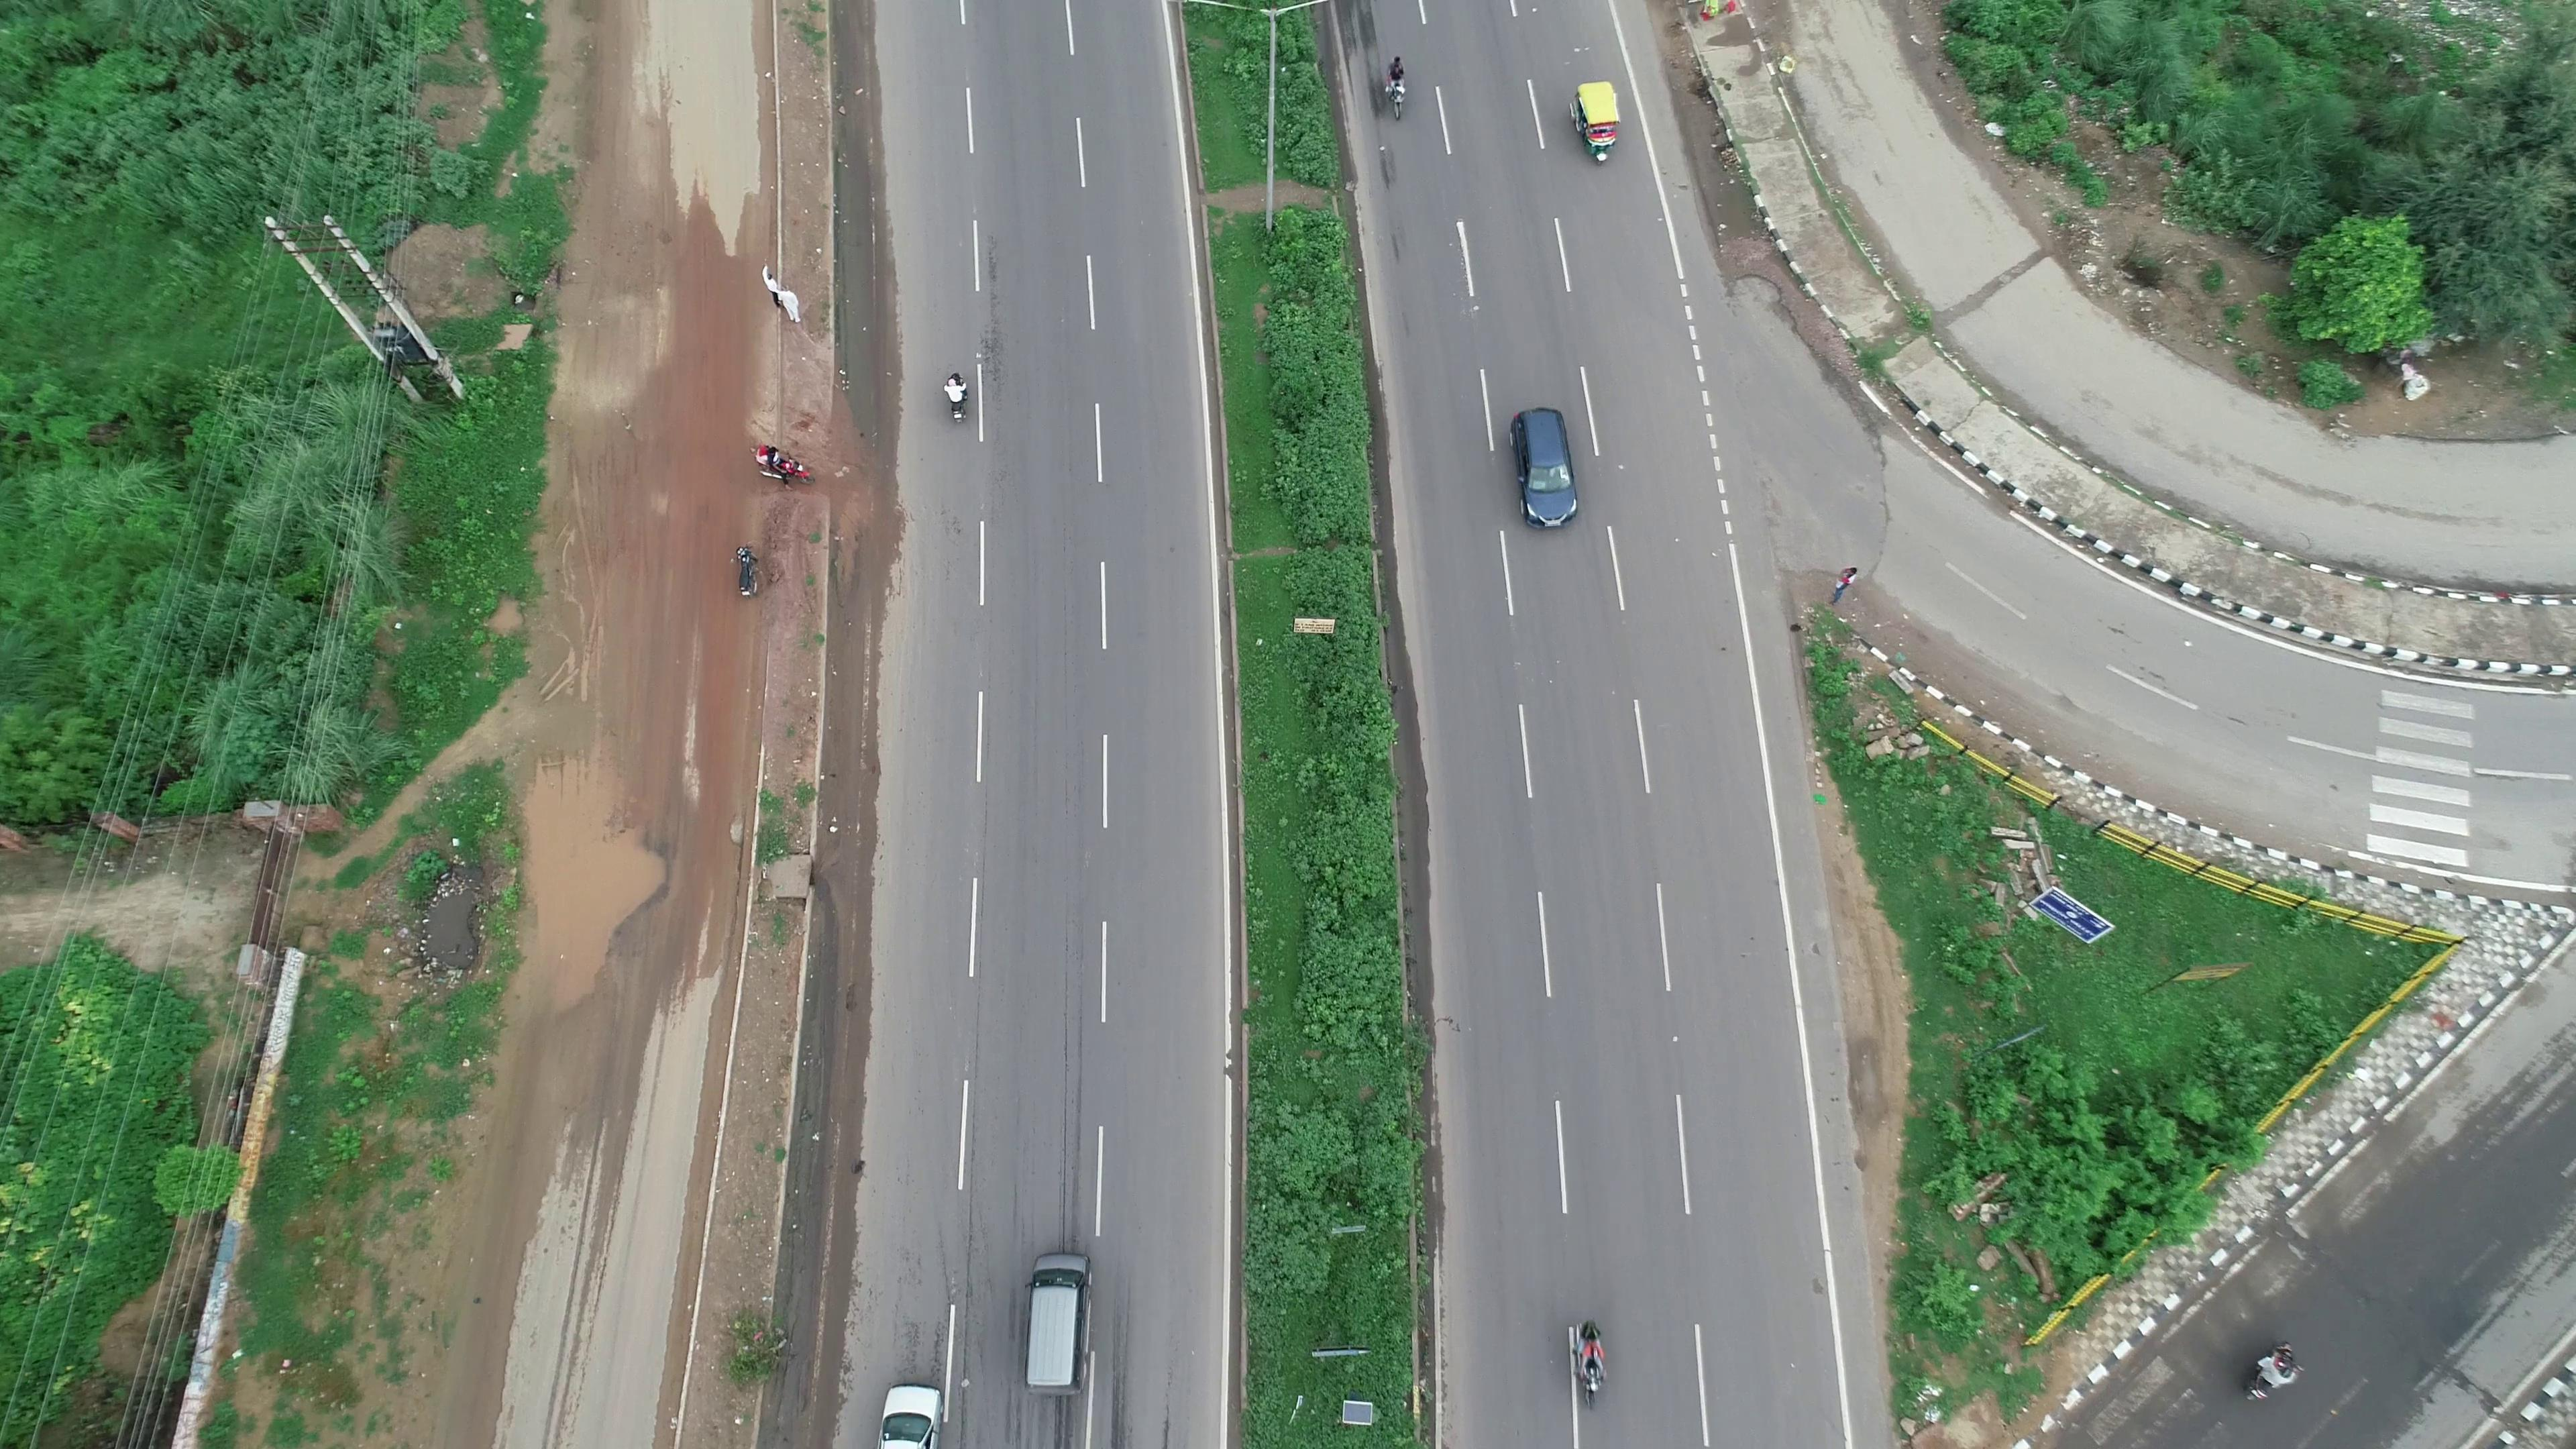Muddy_road: (561, 364, 743, 773)
Ravelling: (980, 235, 1017, 414)
Waterlogging: (536, 786, 674, 1012)
